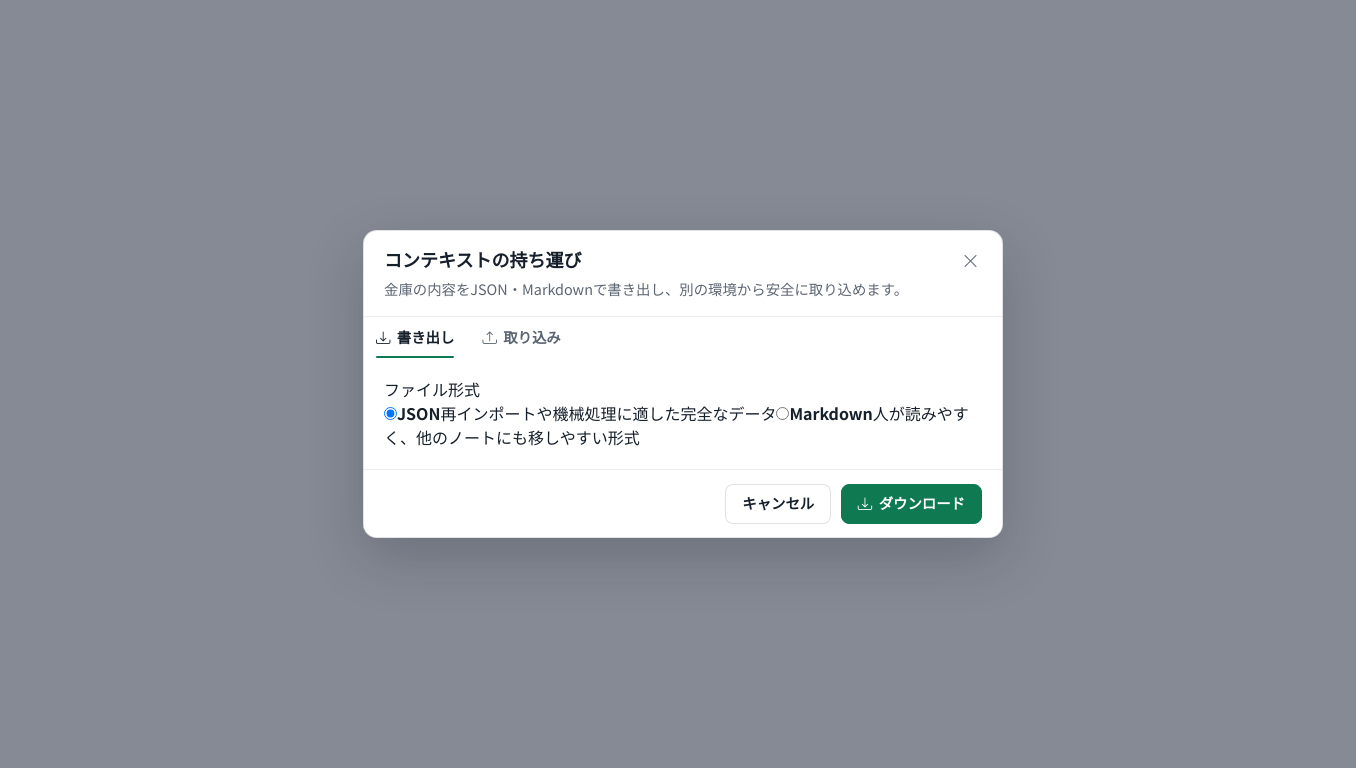
Test: ContextPortabilityModal › keeps the modal open and reports export API errors
The width and height of the screenshot is (1366, 768).
Click the button "ダウンロード" at (911, 504), box [841,484,982,524]
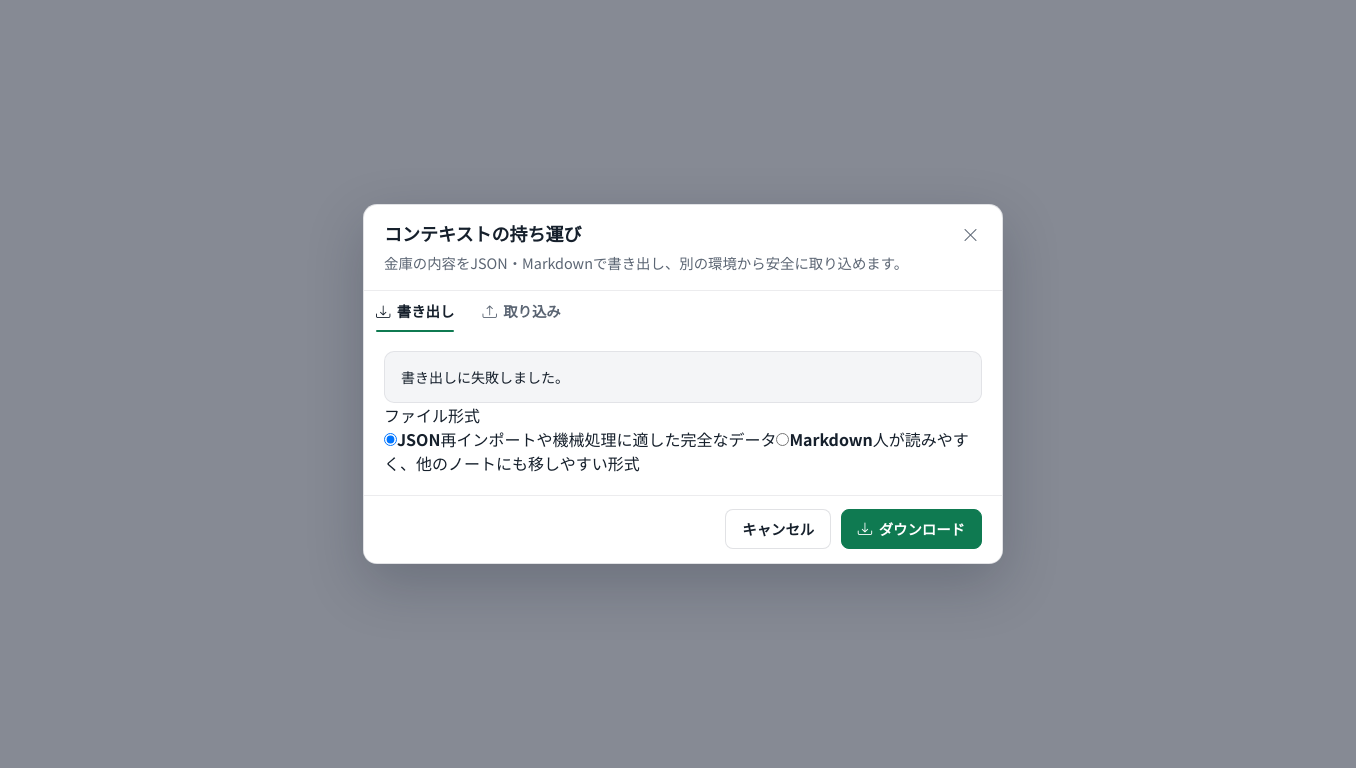
Expected: the message reads "書き出しに失敗しました。", [401,367,569,387]
